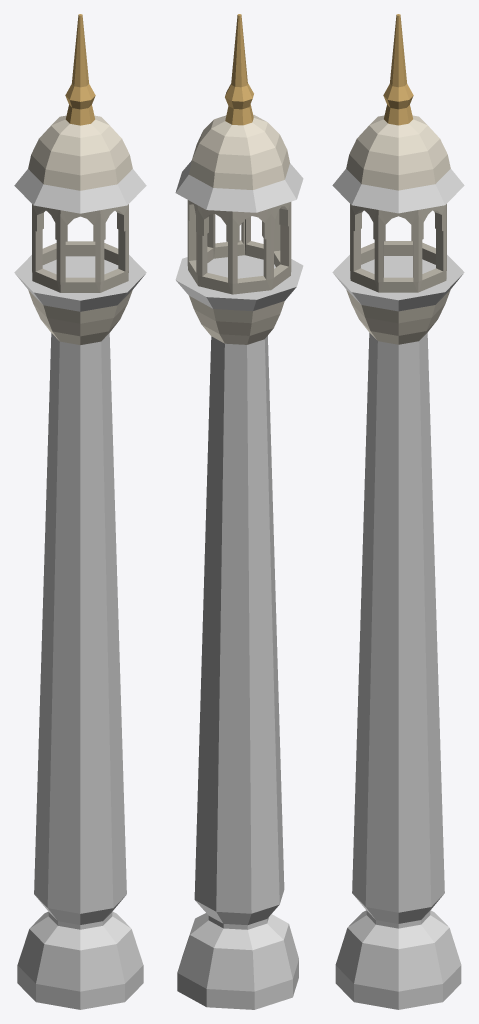
Rendered from delh_prop_02.fbx.
3 views of the same model, side by side, from view 1: azimuth 90°, elevation 25°; view 2: azimuth 150°, elevation 25°; view 3: azimuth 270°, elevation 25° (orthographic).
Visible parts, largest first — view 1: delh_prop_02_pillar; view 2: delh_prop_02_pillar; view 3: delh_prop_02_pillar.
Boxes of the visible parts, x1,y1,x2,y2 form: delh_prop_02_pillar: [14, 14, 146, 1009]; delh_prop_02_pillar: [175, 14, 303, 1009]; delh_prop_02_pillar: [332, 14, 464, 1009].
Size of what is drawn, in the model's own units: 53.63 by 433 by 53.63.
